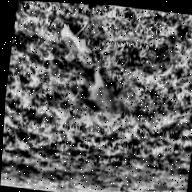boar: (72, 67, 132, 123)
